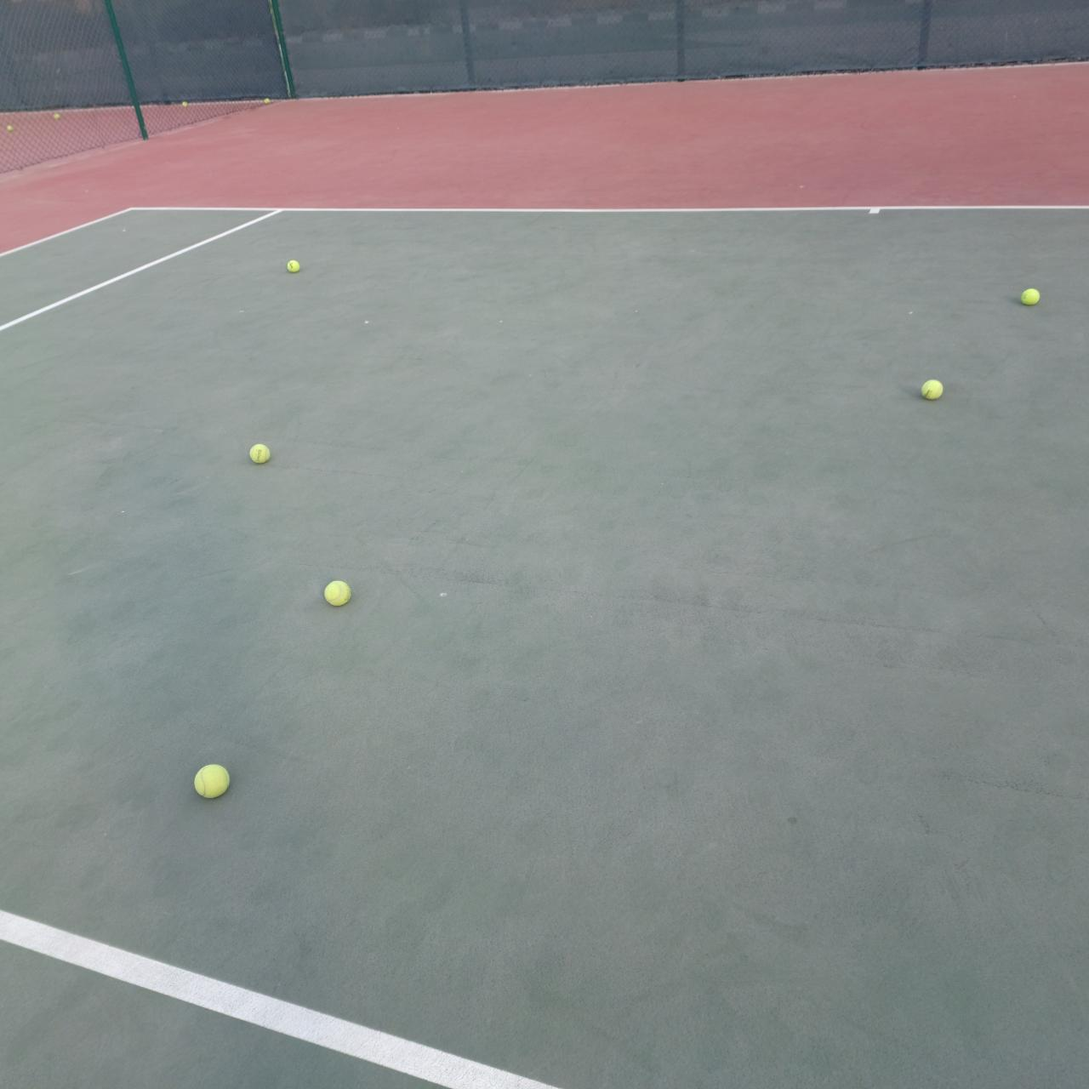tennis-ball: (192, 761, 231, 799), (322, 578, 351, 607), (920, 376, 944, 400), (248, 441, 271, 464), (1019, 286, 1041, 305), (285, 257, 300, 272), (6, 125, 13, 131), (54, 113, 60, 120), (264, 97, 270, 104), (182, 101, 188, 107)
